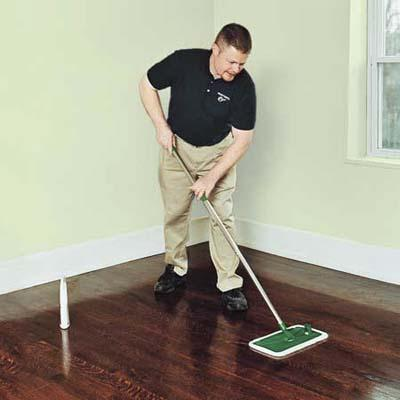person: (136, 23, 260, 316)
